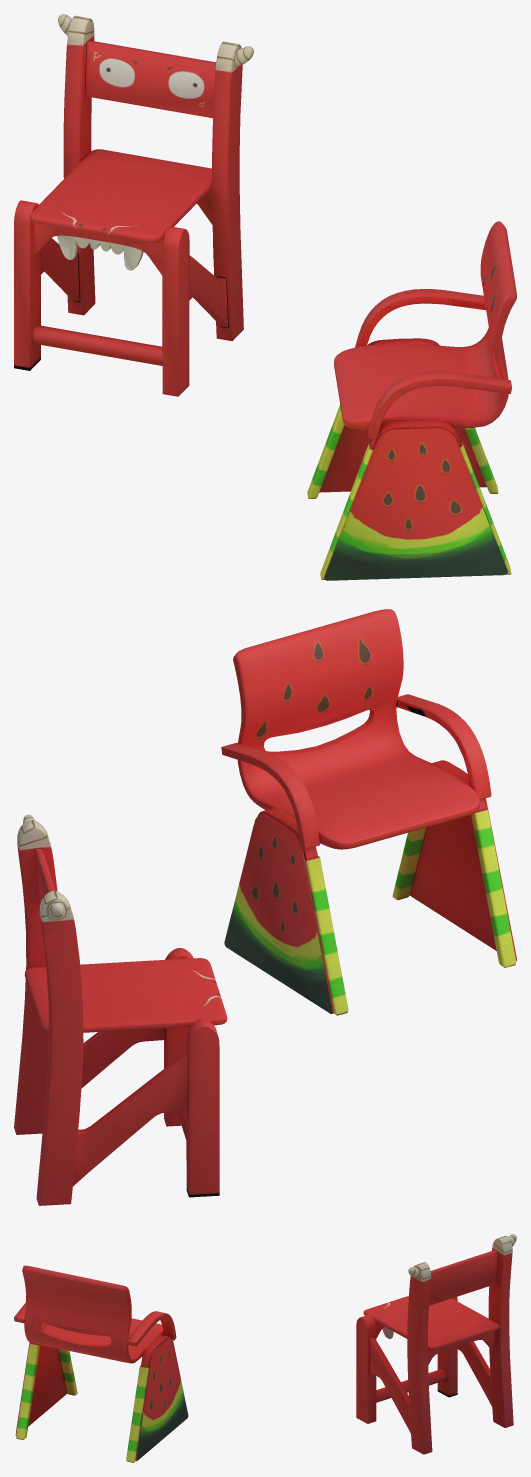
File: Chair_LOD3.glb
The picture shows the model from 3 angles, top to bottom: view 1: azimuth 30°, elevation 25°; view 2: azimuth 150°, elevation 25°; view 3: azimuth 270°, elevation 25°; orthographic projection. The views are drawn at different scales.
Visible parts, largest first — view 1: Chair 1_Retopo.001_LOD3; view 2: Chair 1_Retopo.001_LOD3; view 3: Chair 1_Retopo.001_LOD3.
Boxes of the visible parts, left/top/right/bottom form: Chair 1_Retopo.001_LOD3: left=14, top=14, right=516, bottom=580; Chair 1_Retopo.001_LOD3: left=14, top=609, right=516, bottom=1205; Chair 1_Retopo.001_LOD3: left=14, top=1234, right=516, bottom=1462.
Bounding box in the file's own units: 0.8643 × 0.9972 × 2.44.
Materials: 1 (1 with a texture image).
